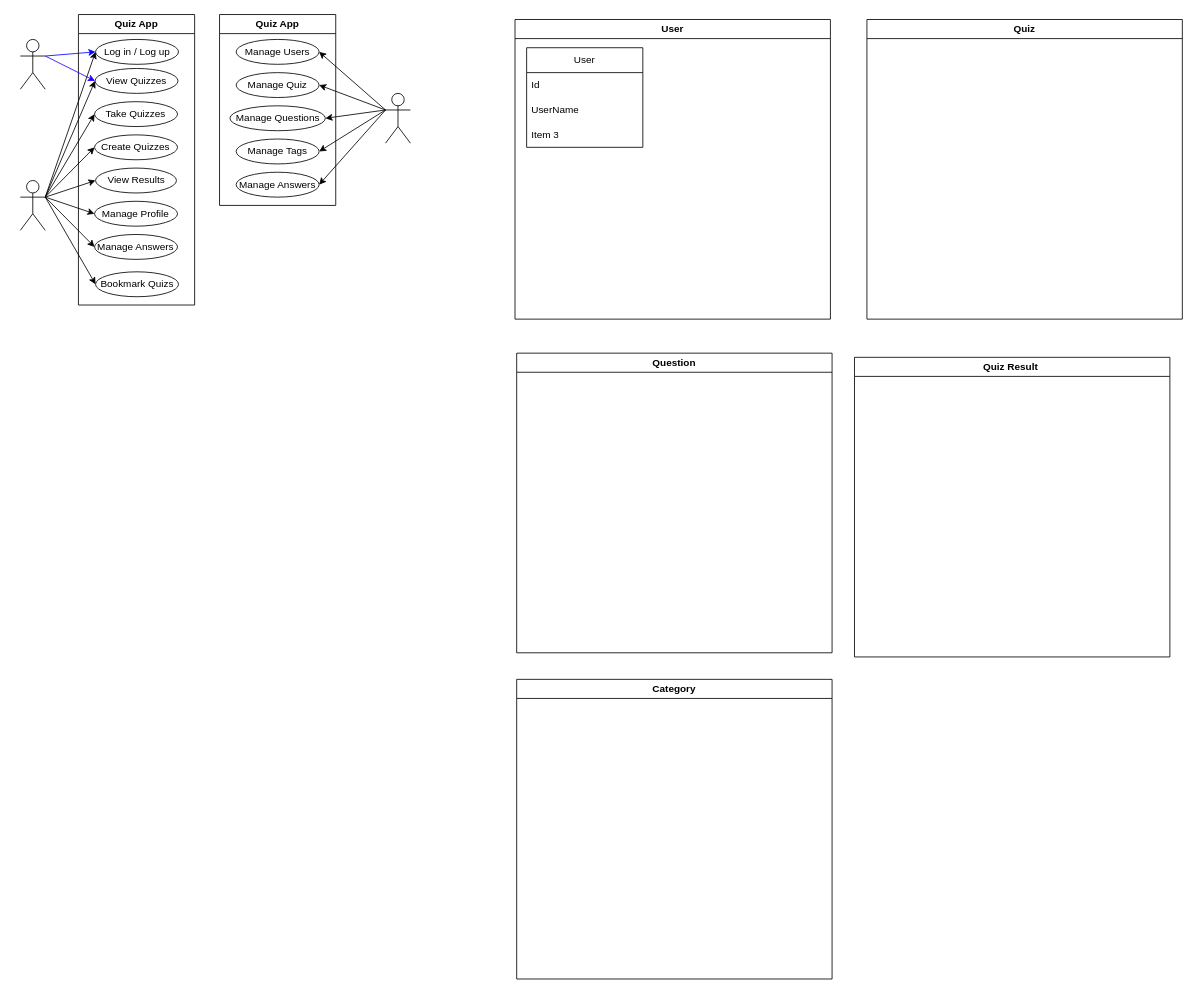
The diagram is 1197 pixels wide and 994 high, and some of its shapes have lost their labels. Here are the shapes that lost their labels. From the top down, the box of each, then its label:
(20, 39, 45, 89): Guest
(385, 93, 410, 143): Admin
(20, 180, 45, 230): Register
